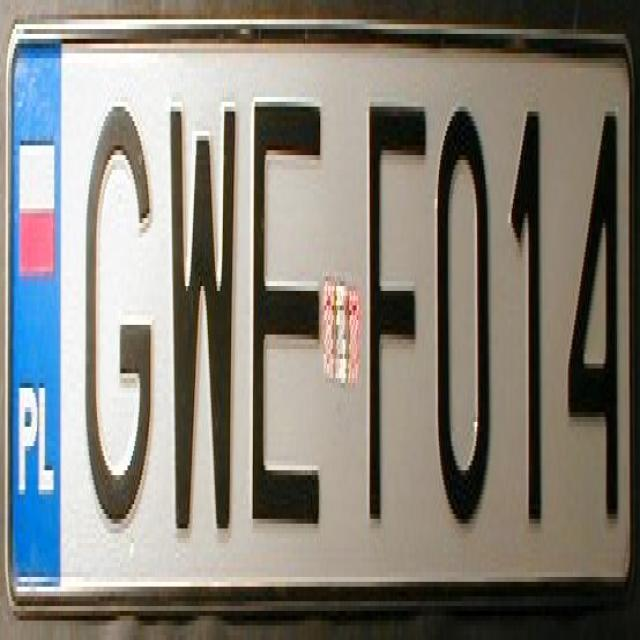pl_license_plate: (8, 29, 633, 611)
